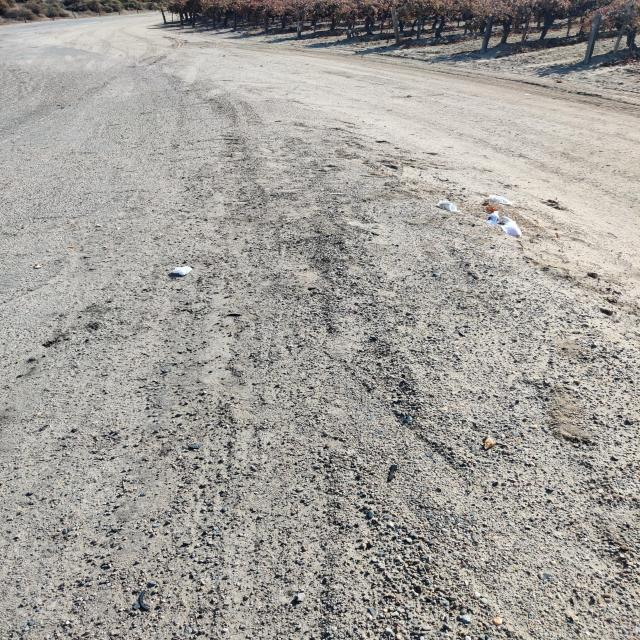litter: (499, 216, 522, 238), (489, 195, 513, 206), (437, 201, 461, 212), (172, 265, 193, 276), (487, 211, 499, 227)
